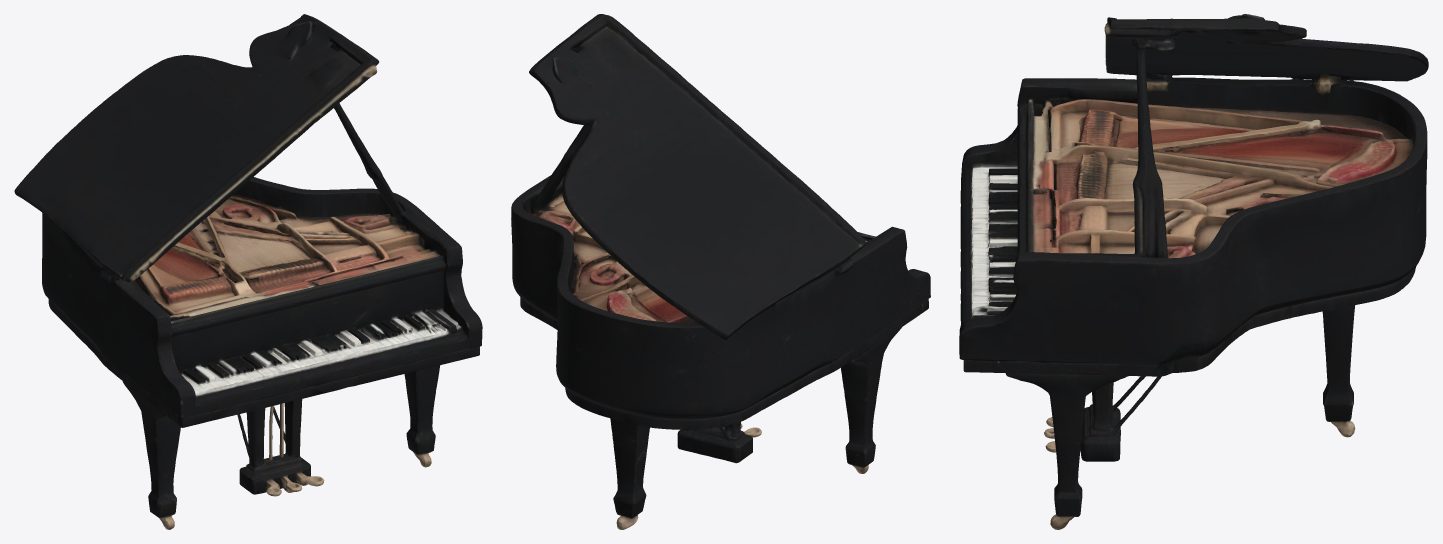
Rendered from parts.glb.
The picture shows the model from 3 angles, left to right: view 1: azimuth 30°, elevation 25°; view 2: azimuth 150°, elevation 25°; view 3: azimuth 270°, elevation 25°; orthographic projection. The views are drawn at different scales.
Size of the model in its own units: 1.8 by 2.21 by 1.91.
9 materials, 9 textured.
